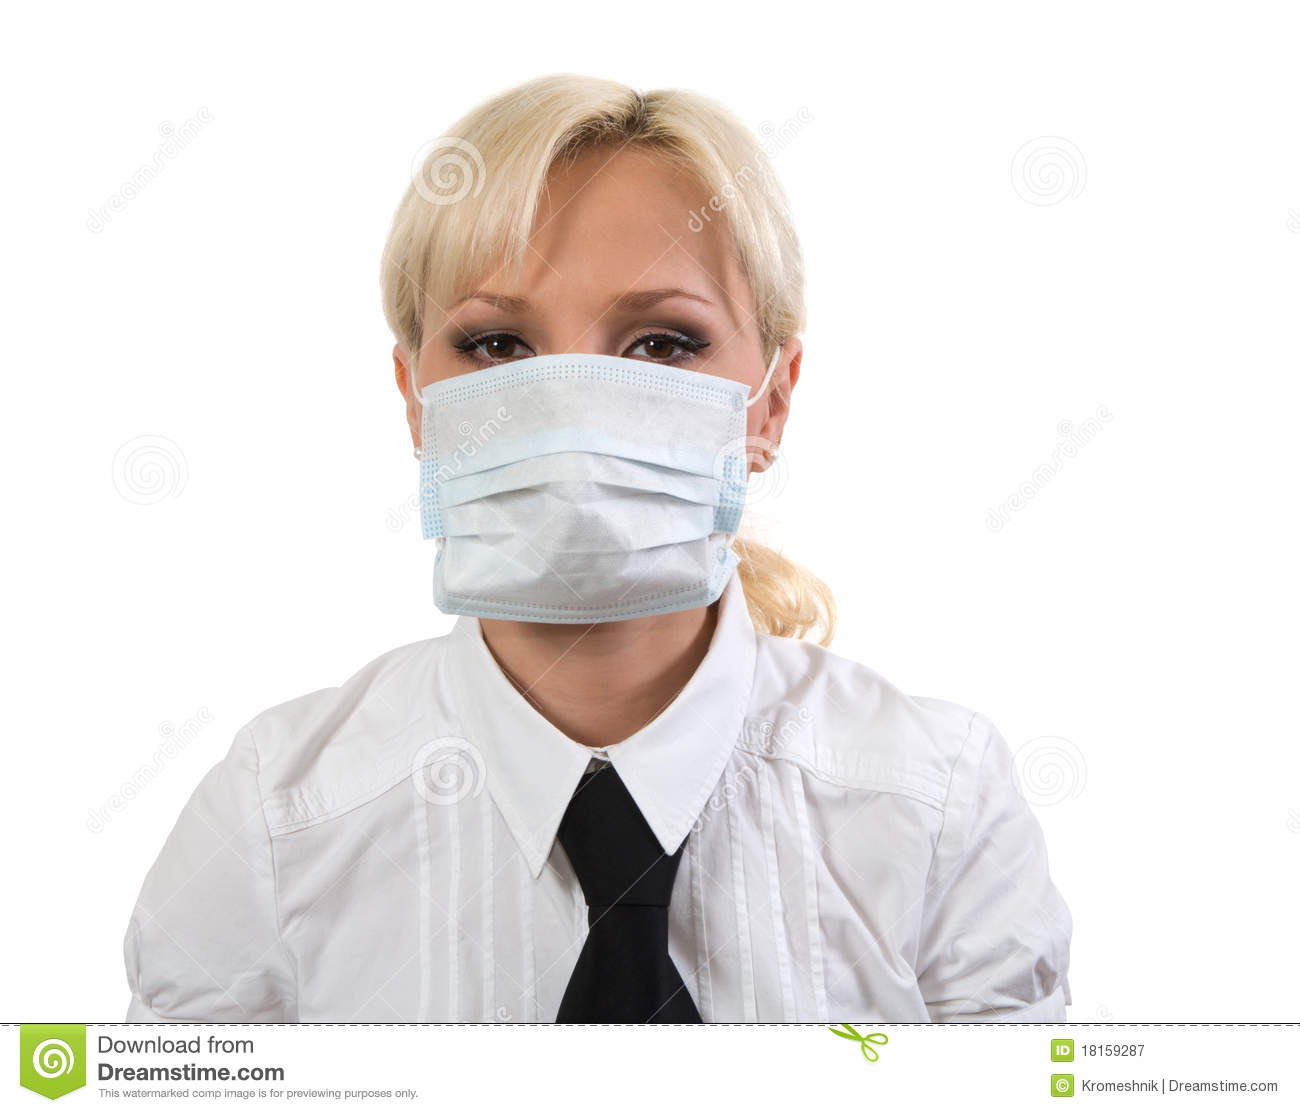mask: (418, 351, 750, 629)
